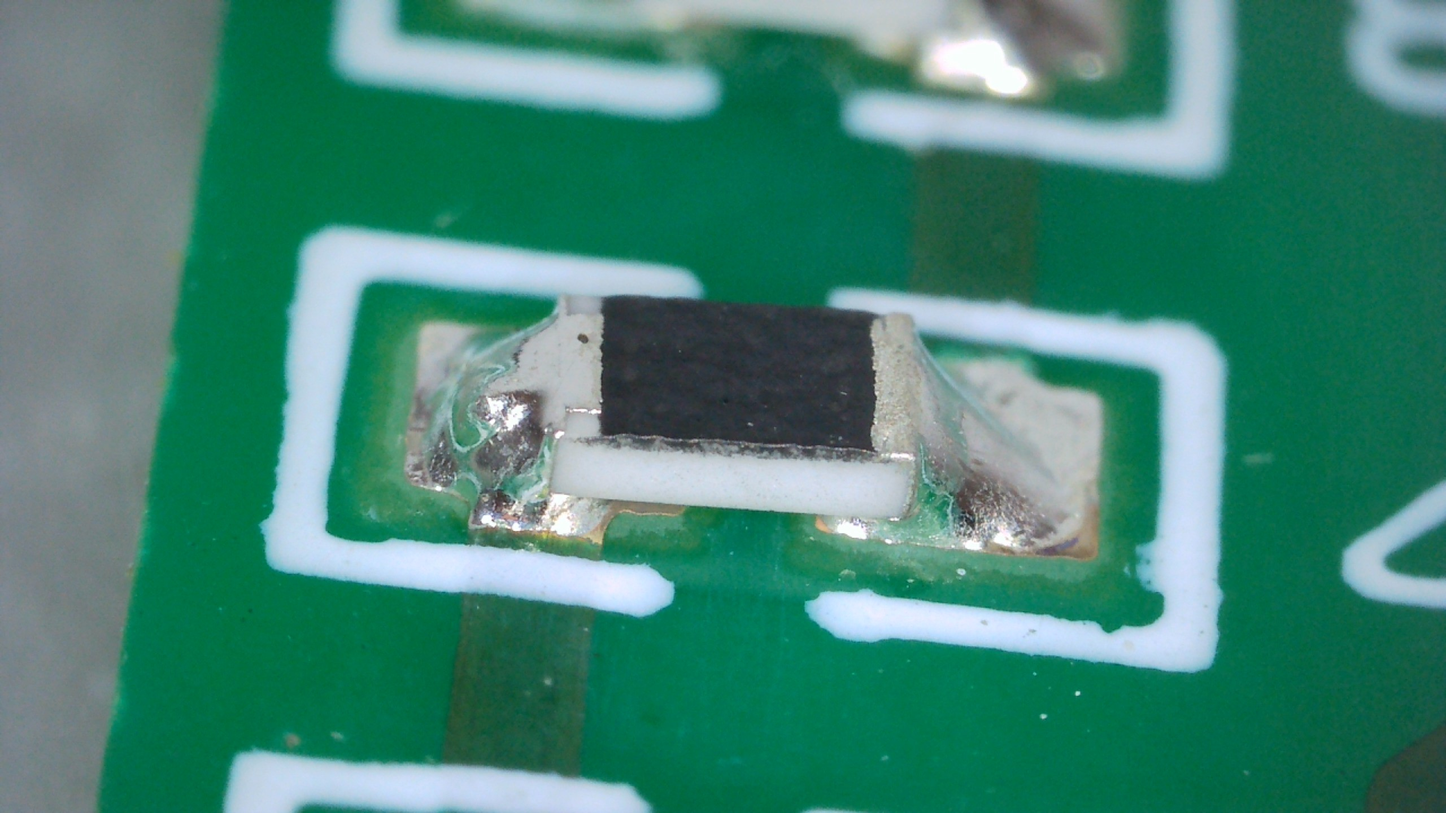NG: (822, 315, 1093, 554), (410, 296, 612, 538)
